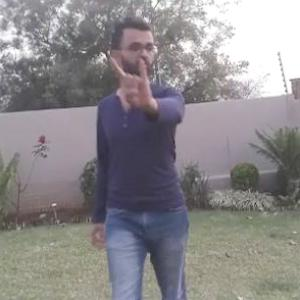takeoff-hand: (100, 55, 157, 114)
